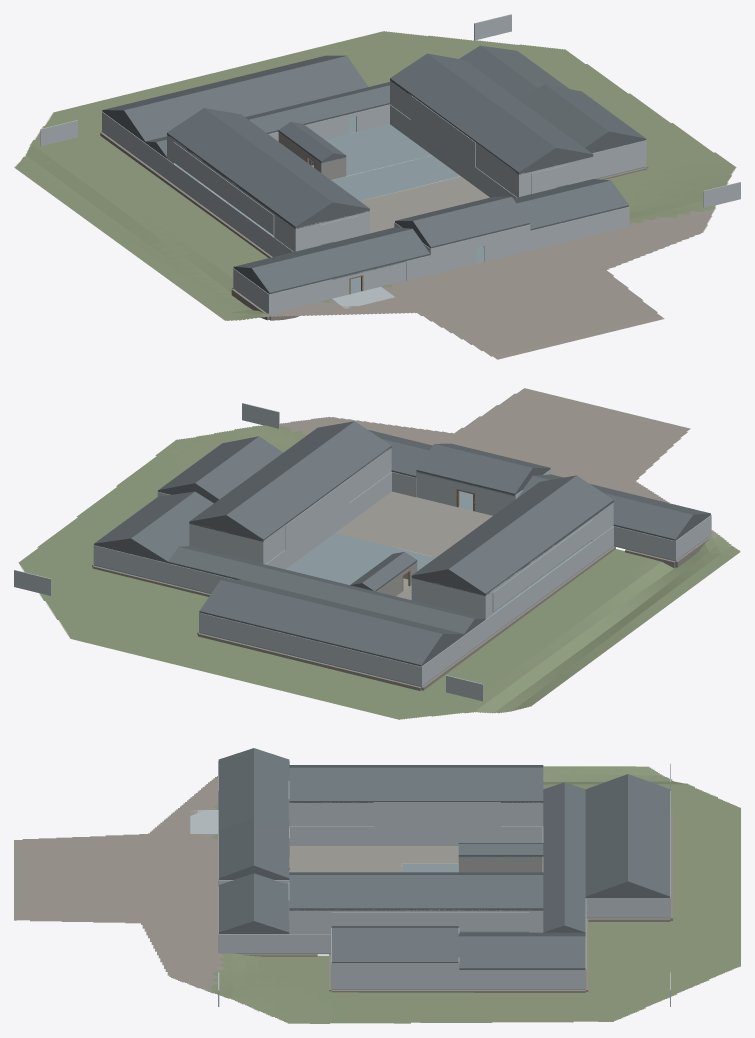
File: prison-hiding.glb
The picture shows the model from 3 angles, top to bottom: view 1: azimuth 30°, elevation 25°; view 2: azimuth 150°, elevation 25°; view 3: azimuth 270°, elevation 25°; orthographic projection.
Visible parts, largest first — view 1: Saved editor geographic earthworks PRISON, food-and-medical roof south, east-cellhouse roof west, west-cellhouse roof west, intake-and-visitors roof south, PRISON secure exercise yard pavement region0, sally-port roof south, guard-and-staff roof south, Ceiling cap plant, Ceiling cap laundry, east-cellhouse roof east, west-cellhouse roof east (+33 smaller); view 2: Saved editor geographic earthworks PRISON, food-and-medical roof north, west-cellhouse roof west, east-cellhouse roof west, PRISON secure exercise yard pavement region0, north-cross roof north, sally-port roof north, east-cellhouse roof east, west-cellhouse roof east, intake-and-visitors roof north, isolation roof west, chapel roof west (+31 smaller); view 3: Saved editor geographic earthworks PRISON, west-cellhouse roof east, east-cellhouse roof east, food-and-medical roof south, food-and-medical roof north, chapel roof east, isolation roof east, PRISON secure exercise yard pavement region0, Wall chapel E, north-cross roof north, north-cross roof south, Wall a-rear-bypass E (+31 smaller).
Part boxes in pixels (box(x1,y1,x2,y2)): Saved editor geographic earthworks PRISON: box(14, 31, 736, 359); food-and-medical roof south: box(124, 56, 368, 141); east-cellhouse roof west: box(390, 53, 555, 173); west-cellhouse roof west: box(167, 108, 332, 227); intake-and-visitors roof south: box(251, 229, 430, 293); PRISON secure exercise yard pavement region0: box(360, 176, 489, 233); sally-port roof south: box(413, 197, 529, 248); guard-and-staff roof south: box(517, 180, 628, 230); Ceiling cap plant: box(325, 124, 431, 175); Ceiling cap laundry: box(331, 155, 460, 200); east-cellhouse roof east: box(428, 53, 593, 155); west-cellhouse roof east: box(204, 108, 369, 209); Saved editor geographic earthworks PRISON: box(18, 388, 740, 719); food-and-medical roof north: box(199, 580, 442, 666); west-cellhouse roof west: box(448, 475, 613, 594); east-cellhouse roof west: box(226, 421, 391, 540); PRISON secure exercise yard pavement region0: box(335, 491, 492, 599); north-cross roof north: box(168, 547, 474, 634); sally-port roof north: box(416, 444, 532, 494); east-cellhouse roof east: box(189, 421, 353, 522); west-cellhouse roof east: box(411, 475, 576, 576); intake-and-visitors roof north: box(517, 476, 693, 540); isolation roof west: box(131, 491, 213, 562); chapel roof west: box(195, 436, 283, 500); Saved editor geographic earthworks PRISON: box(14, 766, 740, 1023); west-cellhouse roof east: box(289, 767, 543, 802); east-cellhouse roof east: box(289, 875, 543, 909); food-and-medical roof south: box(585, 774, 627, 897); food-and-medical roof north: box(628, 774, 670, 897); chapel roof east: box(331, 928, 458, 963); isolation roof east: box(458, 936, 585, 969); PRISON secure exercise yard pavement region0: box(289, 846, 458, 872); Wall chapel E: box(331, 963, 458, 989); north-cross roof north: box(564, 782, 585, 932); north-cross roof south: box(543, 782, 564, 932); Wall a-rear-bypass E: box(430, 802, 500, 845).
Size of the model in its own units: 87 by 12.74 by 103.
49 materials, 28 textured.
